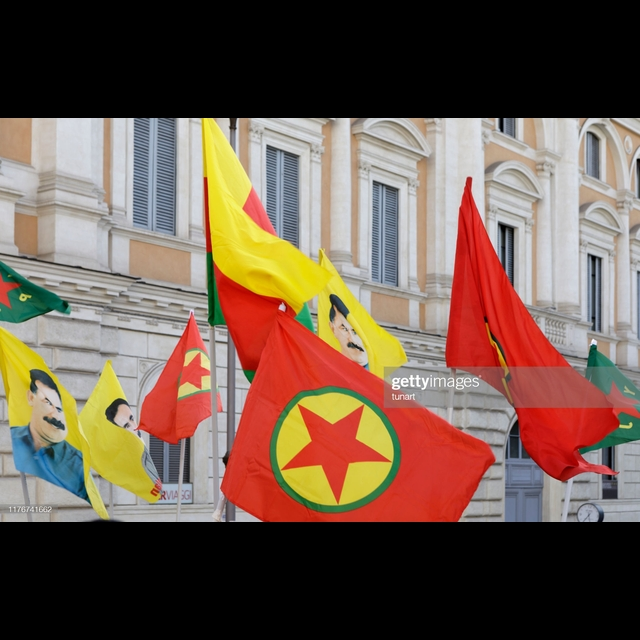PKK: (266, 374, 378, 516)
